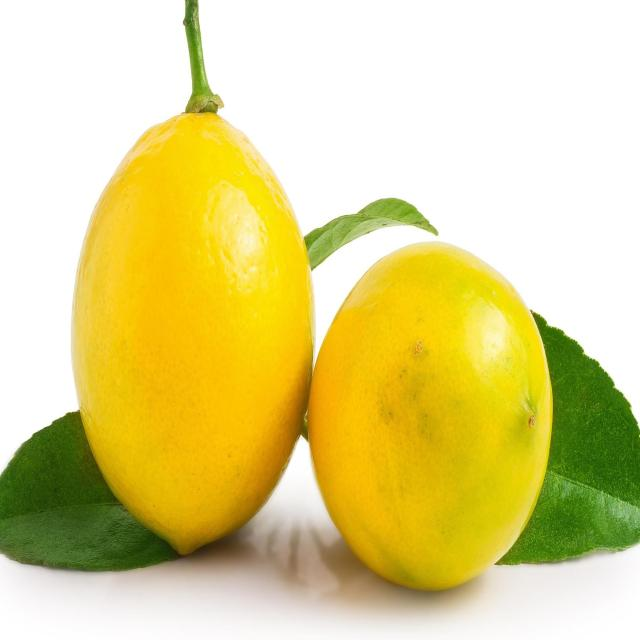lemon: (64, 96, 322, 562), (304, 231, 559, 601)
